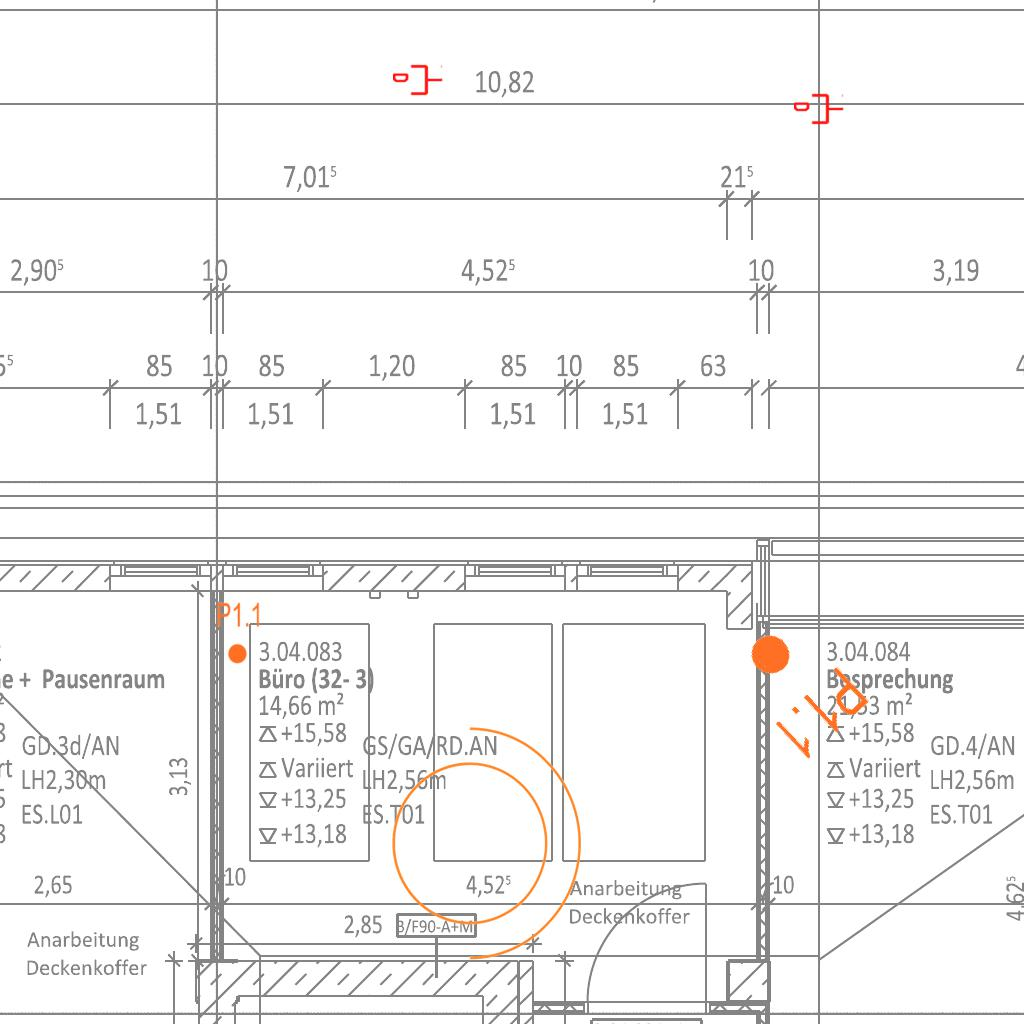Datenanschluss_einfach: (794, 92, 844, 126), (393, 63, 443, 97)
Downlight_LED_Einbauleuchten_Flur: (718, 608, 875, 766), (216, 601, 262, 665)
Scheinwerfer_fuer_Alarmbeleuchtung: (367, 705, 592, 969)
